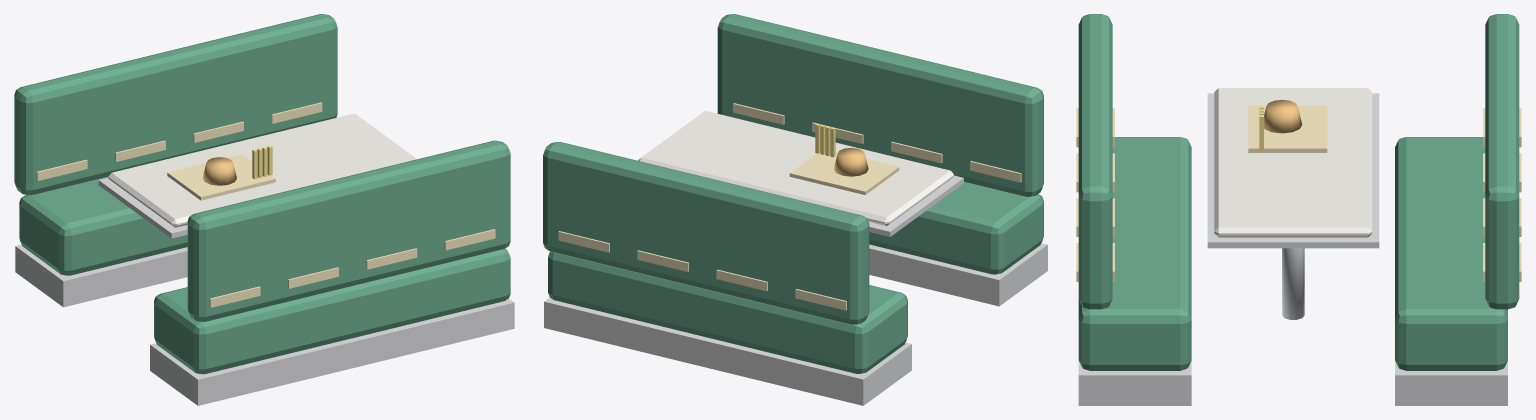
File: booth-pizza.glb
3 renders of one model, left to right at view 1: azimuth 30°, elevation 25°; view 2: azimuth 150°, elevation 25°; view 3: azimuth 270°, elevation 25°, orthographic. The views are drawn at different scales.
Visible parts, largest first — view 1: booth-pizza; view 2: booth-pizza; view 3: booth-pizza.
Boxes of the visible parts, left/top/right/bottom form: booth-pizza: left=14, top=14, right=514, bottom=405; booth-pizza: left=543, top=14, right=1047, bottom=405; booth-pizza: left=1076, top=14, right=1521, bottom=405.
Bounding box in the file's own units: 1.9 × 1.05 × 1.97.
